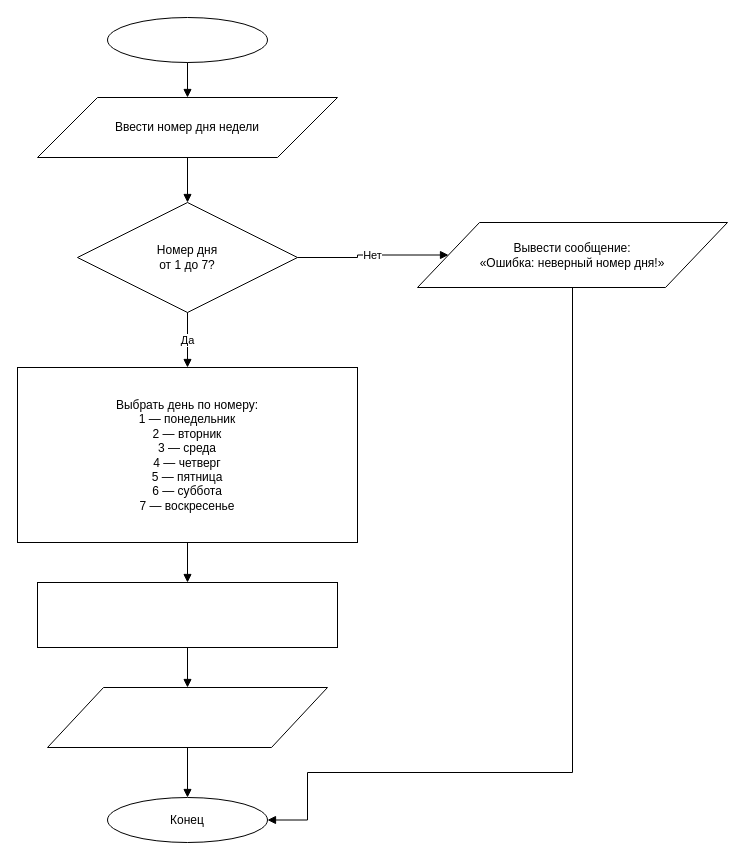
The diagram is 745 pixels wide and 860 high, and some of its shapes have lost their labels. The centre of each missing label's shape, as x and y in pixels:
Вывести количество дней до воскресенья: the point at 187,717
Количество дней до воскресенья = 7 − номер дня: the point at 187,615
Начало: the point at 187,39
